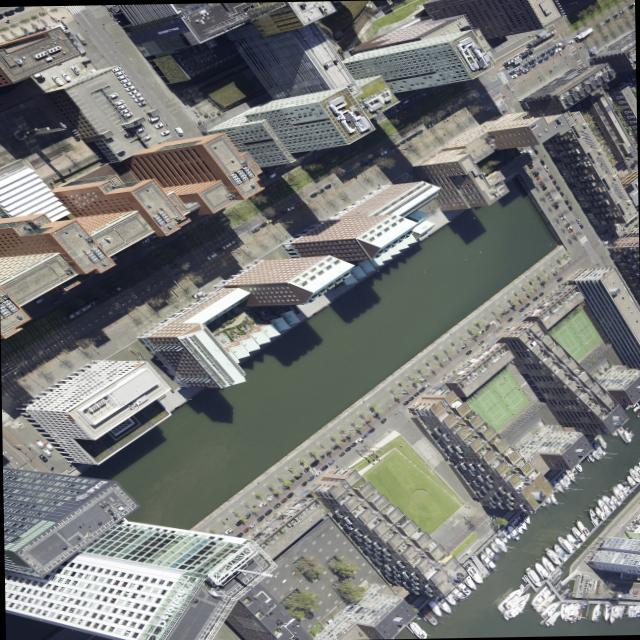large-vehicle: (63, 284, 122, 319), (500, 44, 535, 66), (524, 27, 557, 47), (572, 25, 593, 40)
ship: (499, 590, 537, 623), (493, 585, 530, 612), (528, 584, 553, 606), (538, 597, 562, 619), (611, 422, 636, 443), (534, 591, 558, 612), (463, 562, 484, 584), (431, 593, 453, 614), (523, 565, 544, 587), (476, 550, 497, 571), (407, 618, 429, 638), (554, 534, 577, 553), (531, 559, 551, 579), (543, 546, 562, 565), (550, 542, 570, 560), (419, 607, 438, 625), (460, 572, 479, 590), (447, 582, 466, 600), (573, 517, 591, 536), (454, 577, 472, 595), (426, 599, 444, 617), (538, 554, 556, 572), (544, 608, 562, 626), (564, 532, 584, 548), (595, 497, 612, 515), (585, 506, 601, 525), (600, 493, 617, 510), (482, 545, 500, 561), (569, 525, 586, 541), (504, 523, 521, 539), (441, 589, 458, 605), (492, 535, 508, 552), (592, 503, 608, 520), (510, 518, 526, 534), (513, 514, 529, 530), (610, 484, 626, 500), (564, 467, 578, 483), (627, 466, 640, 483), (590, 602, 602, 620), (616, 481, 630, 496), (592, 441, 606, 455), (519, 510, 533, 524), (556, 475, 570, 489), (608, 492, 622, 506), (552, 478, 565, 493), (608, 604, 618, 622), (547, 490, 559, 505), (571, 601, 580, 620), (624, 473, 637, 486), (560, 470, 572, 484), (559, 602, 569, 618), (497, 531, 509, 543), (576, 602, 585, 618), (588, 447, 601, 458), (597, 435, 608, 448), (524, 502, 538, 512), (602, 602, 610, 619), (566, 601, 574, 618), (548, 481, 560, 492), (488, 541, 500, 552), (621, 479, 633, 490), (573, 460, 584, 471), (567, 462, 578, 473), (501, 528, 512, 538), (586, 451, 596, 461), (542, 492, 551, 503), (618, 604, 625, 617), (631, 604, 638, 617), (536, 497, 547, 505), (627, 604, 634, 616), (632, 404, 640, 411), (625, 425, 632, 432), (629, 401, 637, 407), (636, 604, 640, 616), (612, 427, 618, 435), (521, 575, 527, 582), (629, 432, 635, 438), (627, 429, 633, 435), (525, 565, 530, 569)
small-vehicle: (50, 73, 64, 85), (42, 439, 55, 450), (33, 437, 45, 448), (309, 457, 321, 467), (41, 447, 53, 456), (2, 7, 15, 15), (174, 125, 184, 135), (70, 64, 80, 74), (60, 71, 71, 80), (192, 289, 204, 297), (205, 251, 217, 259), (38, 452, 48, 461), (147, 114, 159, 121), (127, 88, 139, 95), (121, 79, 133, 86), (263, 507, 273, 515), (256, 513, 266, 521), (257, 499, 267, 507), (294, 470, 304, 478), (234, 530, 244, 538), (223, 526, 233, 534), (32, 70, 43, 77), (33, 296, 44, 303), (153, 121, 164, 128), (159, 128, 170, 135), (114, 98, 125, 105), (124, 83, 135, 90), (119, 76, 130, 83), (116, 72, 127, 79), (306, 473, 315, 481), (130, 91, 142, 97), (319, 463, 329, 470), (234, 518, 244, 525), (70, 282, 80, 289), (308, 190, 318, 197), (250, 224, 260, 231), (154, 234, 164, 241), (326, 457, 336, 464), (120, 106, 130, 113), (117, 102, 127, 109), (521, 65, 531, 72), (114, 68, 124, 75), (111, 64, 121, 71), (108, 91, 119, 97), (130, 241, 141, 247), (133, 95, 144, 101), (286, 490, 294, 498), (272, 501, 281, 508), (243, 511, 252, 518), (360, 431, 369, 438), (357, 421, 366, 428), (417, 374, 426, 381), (140, 236, 149, 243), (115, 250, 124, 257), (353, 436, 363, 442), (50, 298, 60, 304), (135, 125, 145, 131), (169, 262, 179, 268), (123, 130, 133, 136), (123, 110, 133, 116), (36, 75, 46, 81), (136, 99, 146, 105), (280, 495, 288, 502), (313, 468, 321, 475), (265, 494, 273, 501), (242, 525, 250, 532), (343, 444, 351, 451), (418, 385, 426, 392), (258, 220, 266, 227), (227, 238, 235, 245), (324, 448, 333, 454), (330, 443, 339, 449), (338, 437, 347, 443), (364, 416, 373, 422), (371, 411, 380, 417), (60, 288, 69, 294), (143, 133, 152, 139), (270, 213, 279, 219), (286, 204, 295, 210), (316, 186, 325, 192), (323, 182, 332, 188), (215, 246, 224, 252), (221, 242, 230, 248), (360, 160, 369, 166), (217, 204, 226, 210), (108, 254, 117, 260), (527, 57, 536, 63), (405, 592, 412, 599), (424, 380, 431, 387), (529, 141, 536, 148), (248, 521, 256, 527), (281, 482, 289, 488), (367, 426, 375, 432), (554, 46, 562, 52), (349, 440, 357, 446), (337, 450, 345, 456), (345, 432, 353, 438), (300, 479, 308, 485), (531, 294, 539, 300), (407, 394, 415, 400), (477, 338, 485, 344), (477, 327, 485, 333), (265, 217, 273, 223), (532, 170, 540, 176), (526, 159, 534, 165), (268, 171, 276, 177), (369, 117, 377, 123), (415, 127, 423, 133), (261, 209, 269, 215), (294, 200, 303, 205), (318, 453, 327, 458), (379, 149, 388, 154), (116, 149, 125, 154), (602, 238, 609, 244), (288, 477, 295, 483), (303, 465, 310, 471), (554, 184, 561, 190), (491, 513, 498, 519), (380, 416, 387, 422), (518, 305, 525, 311), (539, 279, 546, 285), (556, 275, 563, 281), (465, 348, 472, 354), (460, 341, 467, 347), (413, 390, 420, 396), (402, 399, 409, 405), (498, 311, 505, 317), (574, 216, 581, 222), (526, 148, 533, 154), (542, 164, 549, 170), (402, 97, 409, 103), (510, 72, 517, 78), (551, 200, 559, 205), (547, 195, 555, 200), (439, 114, 447, 119), (279, 209, 287, 214), (551, 269, 559, 274), (388, 144, 396, 149), (373, 153, 381, 158), (529, 61, 537, 66), (515, 65, 523, 70), (489, 515, 495, 521), (425, 369, 431, 375), (538, 290, 544, 296), (624, 221, 630, 227), (628, 217, 634, 223), (564, 221, 570, 227), (567, 204, 573, 210), (563, 198, 569, 204), (532, 147, 538, 153), (539, 158, 545, 164), (547, 172, 553, 178), (628, 2, 634, 8), (273, 490, 280, 495), (487, 503, 494, 508), (401, 388, 408, 393), (506, 316, 513, 321), (488, 319, 495, 324), (504, 307, 511, 312), (483, 323, 490, 328), (442, 356, 449, 361), (559, 214, 566, 219), (555, 41, 562, 46), (630, 160, 637, 165), (519, 148, 526, 153), (517, 146, 524, 151), (367, 157, 374, 162), (273, 164, 280, 169), (264, 169, 271, 174), (399, 138, 406, 143), (550, 44, 557, 49), (410, 131, 417, 136), (405, 134, 412, 139), (394, 141, 401, 146), (548, 50, 555, 55), (427, 121, 434, 126), (567, 38, 574, 43), (537, 57, 544, 62), (522, 61, 529, 66), (508, 69, 515, 74), (315, 146, 323, 150), (612, 221, 620, 225), (544, 48, 552, 52), (541, 184, 547, 189), (509, 303, 515, 308), (524, 301, 530, 306), (568, 227, 574, 232), (608, 224, 614, 229), (578, 222, 584, 227), (566, 224, 572, 229), (558, 211, 564, 216), (558, 190, 564, 195), (538, 179, 544, 184), (551, 179, 557, 184), (445, 111, 451, 116), (619, 8, 625, 13), (543, 54, 549, 59), (599, 232, 606, 236), (546, 193, 553, 197), (527, 163, 534, 167), (633, 215, 638, 220), (535, 174, 540, 179), (544, 190, 550, 194), (620, 225, 626, 229), (560, 44, 566, 48), (531, 168, 537, 172), (612, 12, 618, 16), (539, 51, 545, 55), (516, 70, 522, 74), (632, 588, 636, 593), (611, 232, 616, 236), (604, 228, 609, 232), (554, 203, 559, 207), (621, 588, 625, 593), (540, 182, 545, 186), (605, 17, 610, 21), (628, 589, 632, 593), (624, 588, 627, 592), (635, 589, 638, 593), (627, 588, 629, 592)
